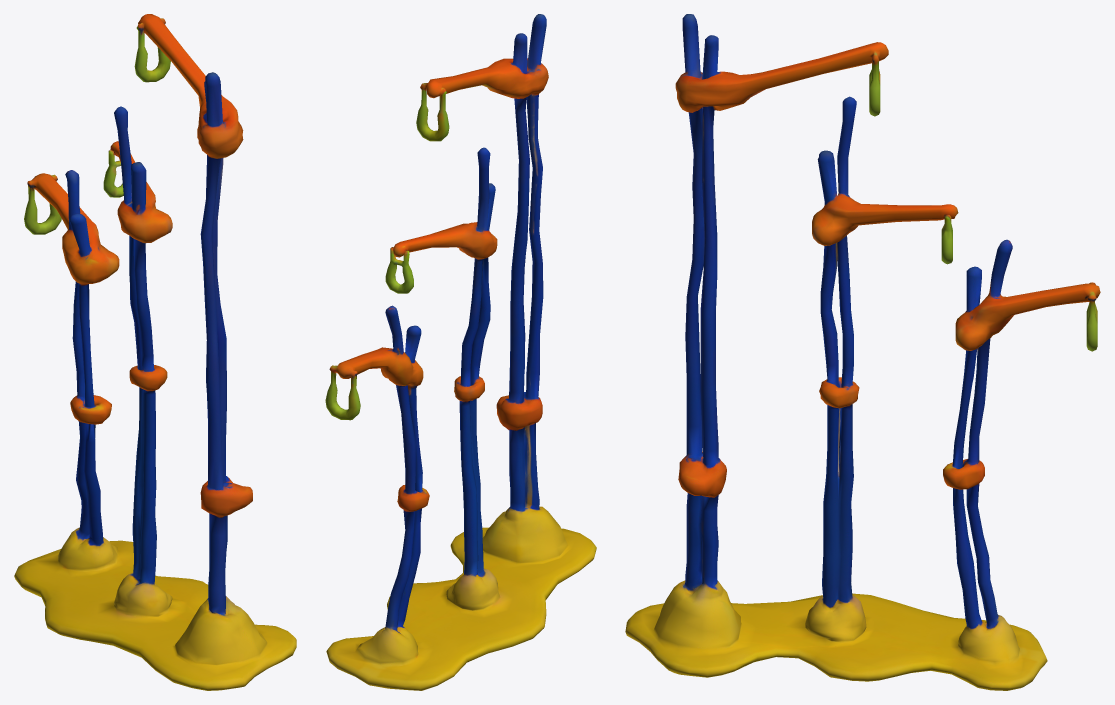
3 views of the same model, side by side, from view 1: azimuth 30°, elevation 25°; view 2: azimuth 150°, elevation 25°; view 3: azimuth 270°, elevation 25° (orthographic). The views are drawn at different scales.
Parts seen in each view (by area): view 1: tripo_node_2c170116-6cf1-4c85-b1fd-996700e3146b; view 2: tripo_node_2c170116-6cf1-4c85-b1fd-996700e3146b; view 3: tripo_node_2c170116-6cf1-4c85-b1fd-996700e3146b.
Part boxes in pixels (x1,y1,x2,y2): tripo_node_2c170116-6cf1-4c85-b1fd-996700e3146b: (14,14,296,690); tripo_node_2c170116-6cf1-4c85-b1fd-996700e3146b: (325,14,596,690); tripo_node_2c170116-6cf1-4c85-b1fd-996700e3146b: (625,14,1100,690).
Size of the model in its own units: 0.2798 by 0.998 by 0.6673.
1 material, 1 textured.
